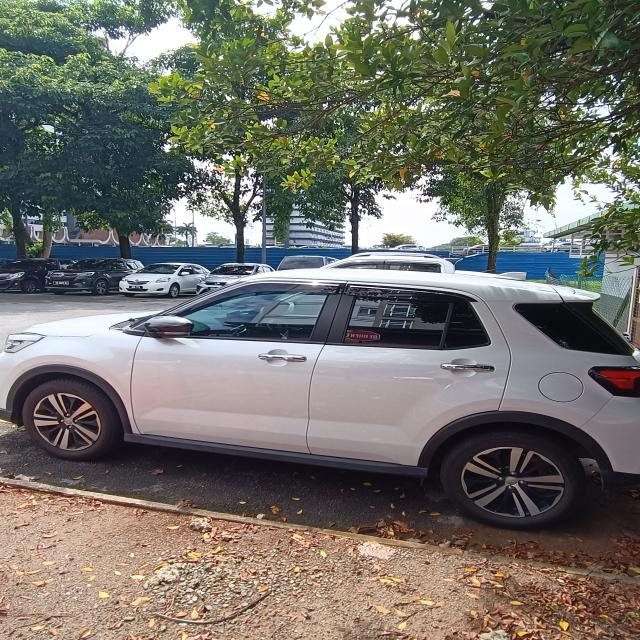PeroduaAtiva: (1, 259, 639, 530)
